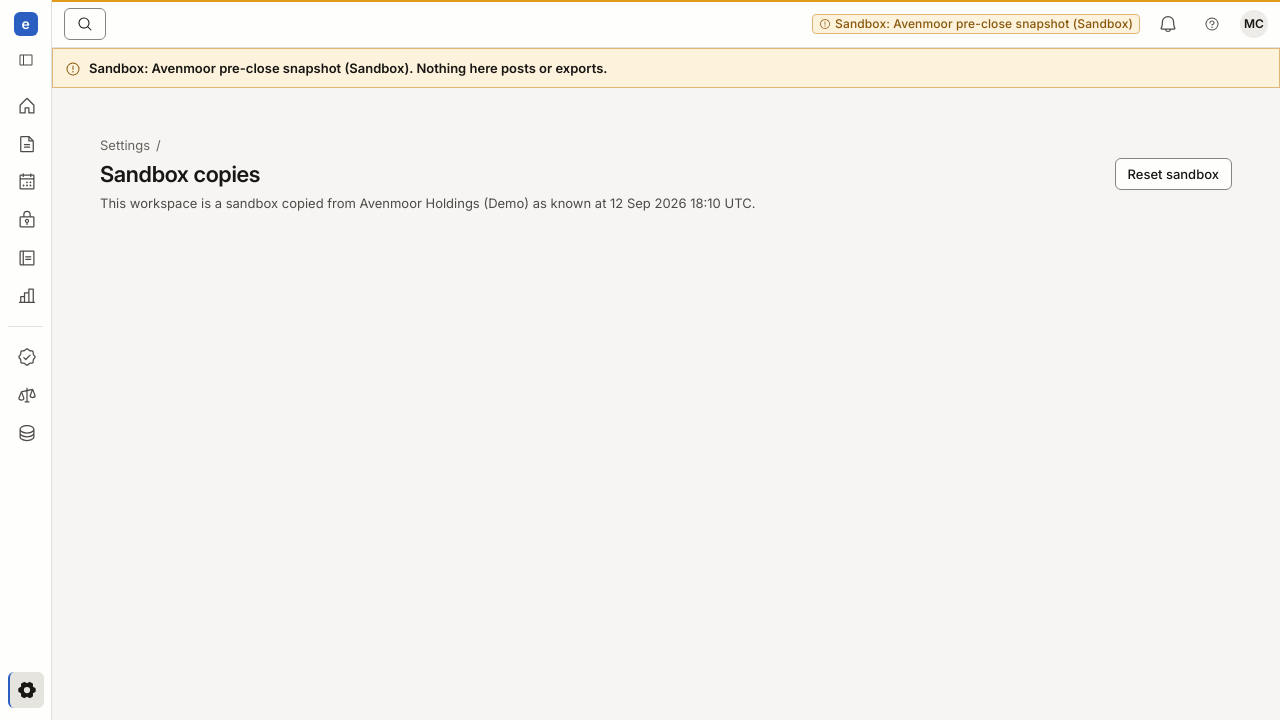
SF-15:sandbox › reset modal options
Expected: the text "This workspace is a sandbox copied from Avenmoor Holdings (Demo) as known at 12 Sep 2026 18:10 UTC." is shown, [100, 195, 755, 211]
Click the button "Reset sandbox" at (1173,174), box [1114, 158, 1232, 190]
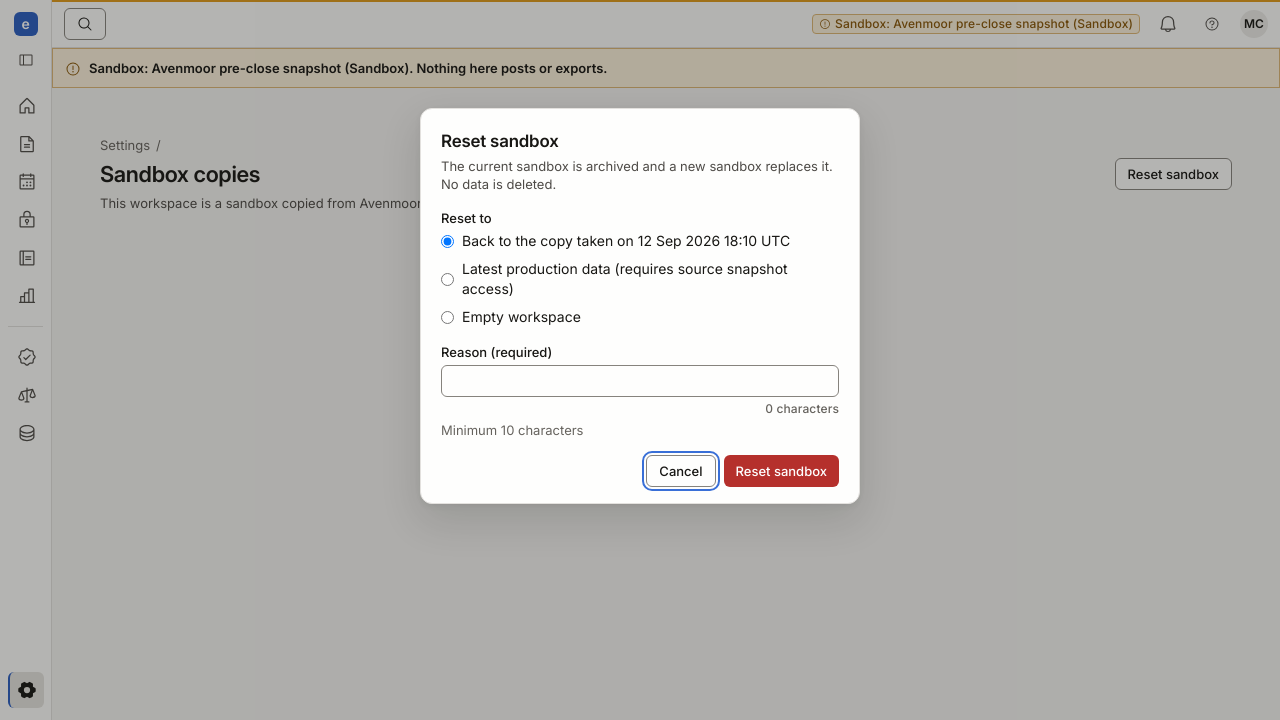
Result: the text "The current sandbox is archived and a new sandbox replaces it. No data is deleted." is shown at [441, 158, 833, 192]
Result: the radio button labelled "Back to the copy taken on 12 Sep 2026 18:10 UTC" is checked at [441, 234, 454, 248]
Result: the radio button labelled "Empty workspace" is not checked at [441, 310, 454, 324]
Note: SB-R-05: a reason of at least 10 characters.
Type "too short" into the text box labelled "Reason (required)" at (640,381), box [441, 365, 839, 397]
Click the button "Reset sandbox" at (781,471), box [724, 455, 839, 487]
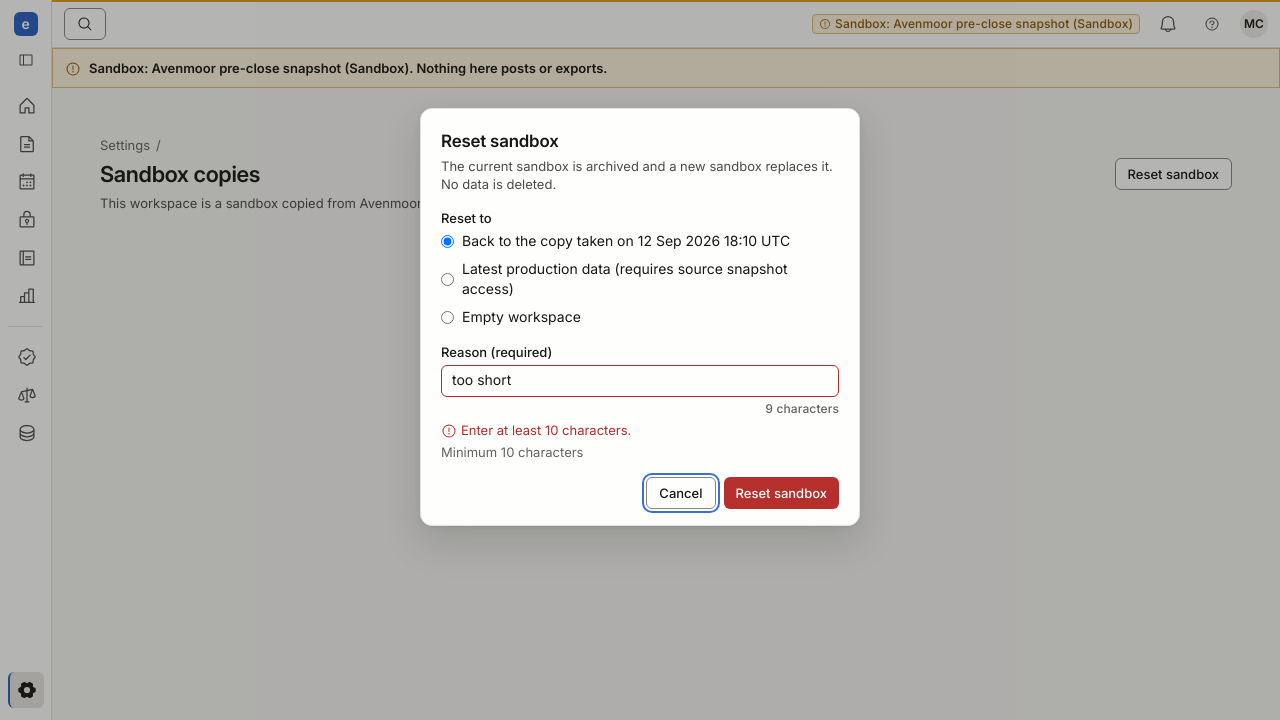
Result: the text "Enter at least 10 characters." is shown at [441, 422, 631, 439]
Click the radio button labelled "Empty workspace" at (448,317), box [441, 310, 454, 324]
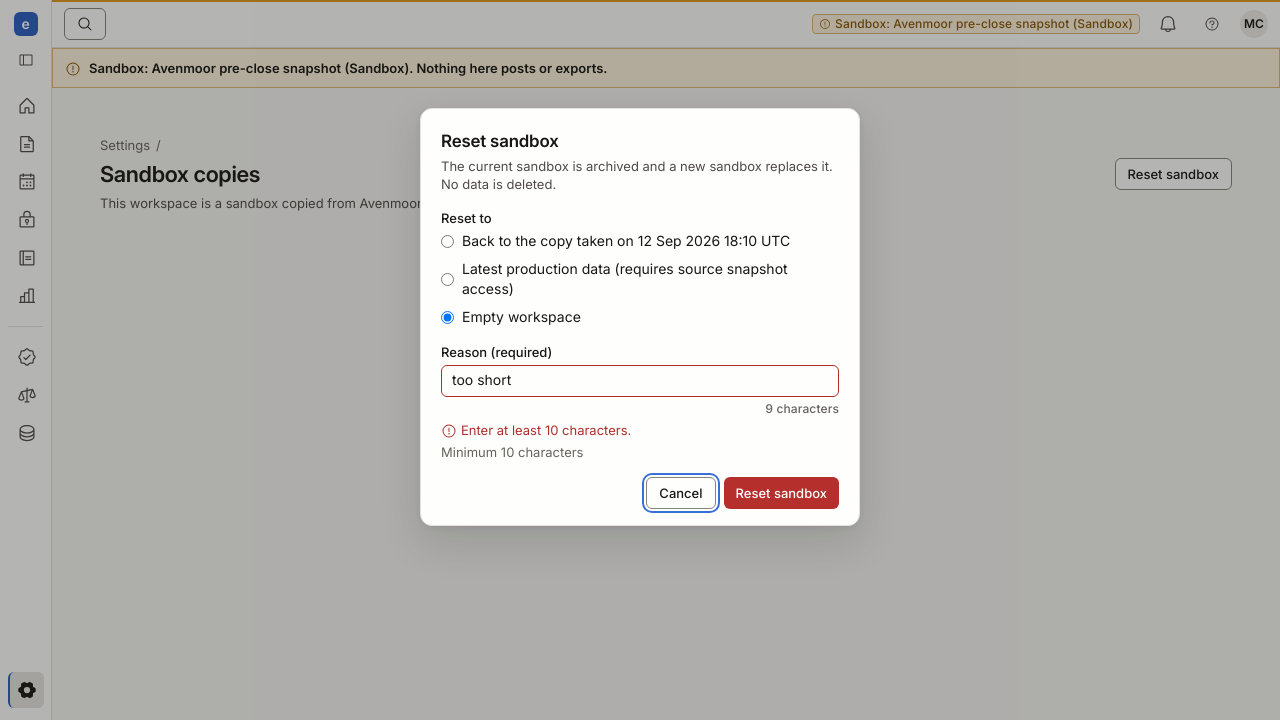
Click the radio button labelled "Back to the copy taken on 12 Sep 2026 18:10 UTC" at (448,241), box [441, 234, 454, 248]
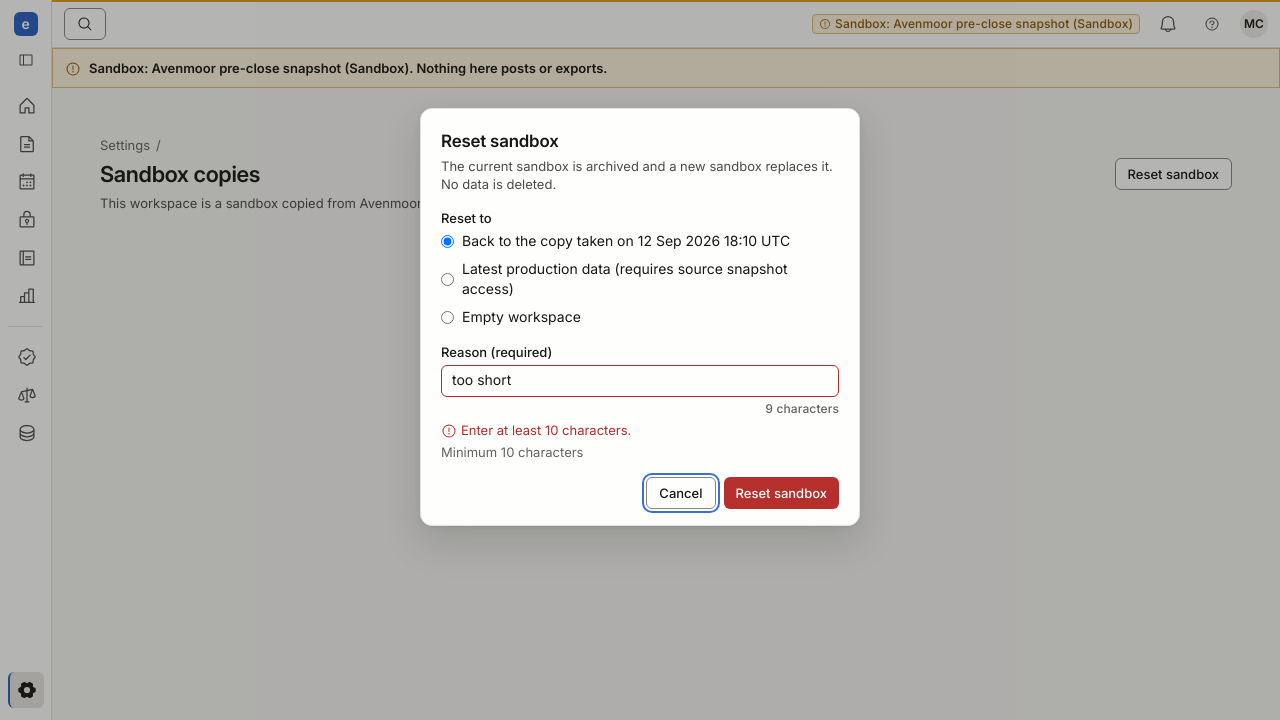
Replace the text in the text box labelled "Reason (required)" with "Rehearsal complete" at (640,381), box [441, 365, 839, 397]
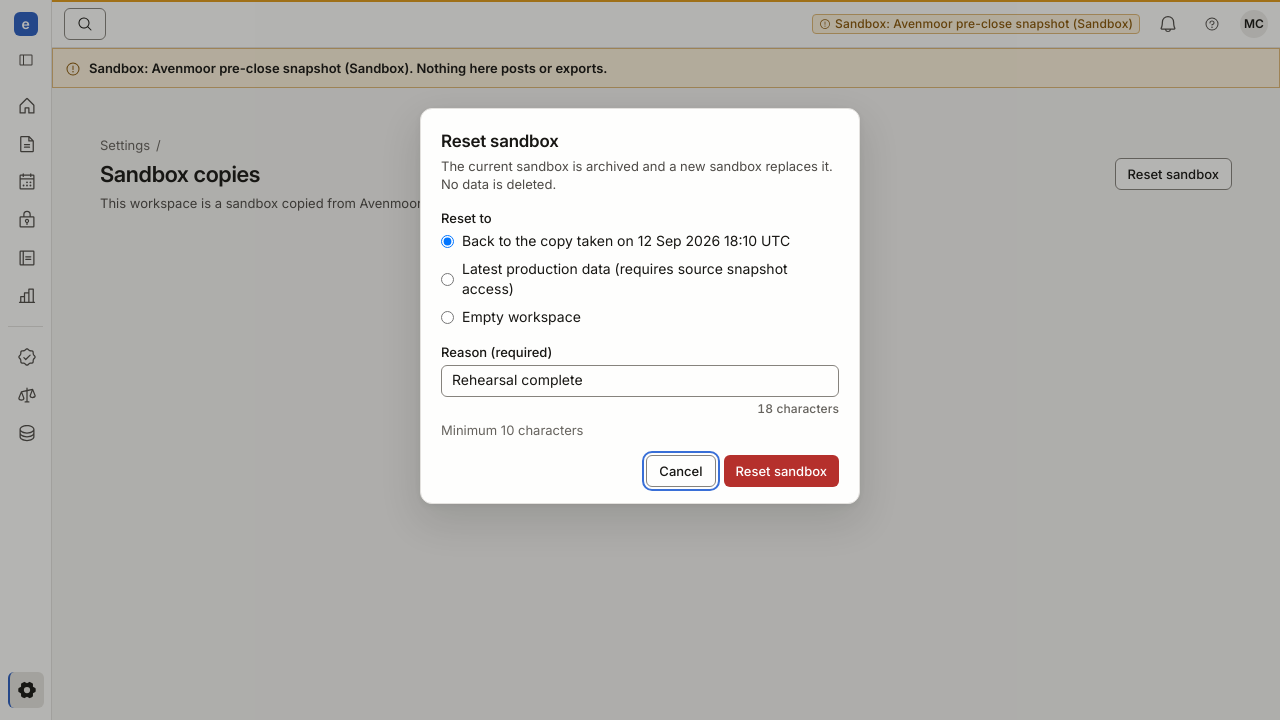
Click the button "Reset sandbox" at (781,471), box [724, 455, 839, 487]
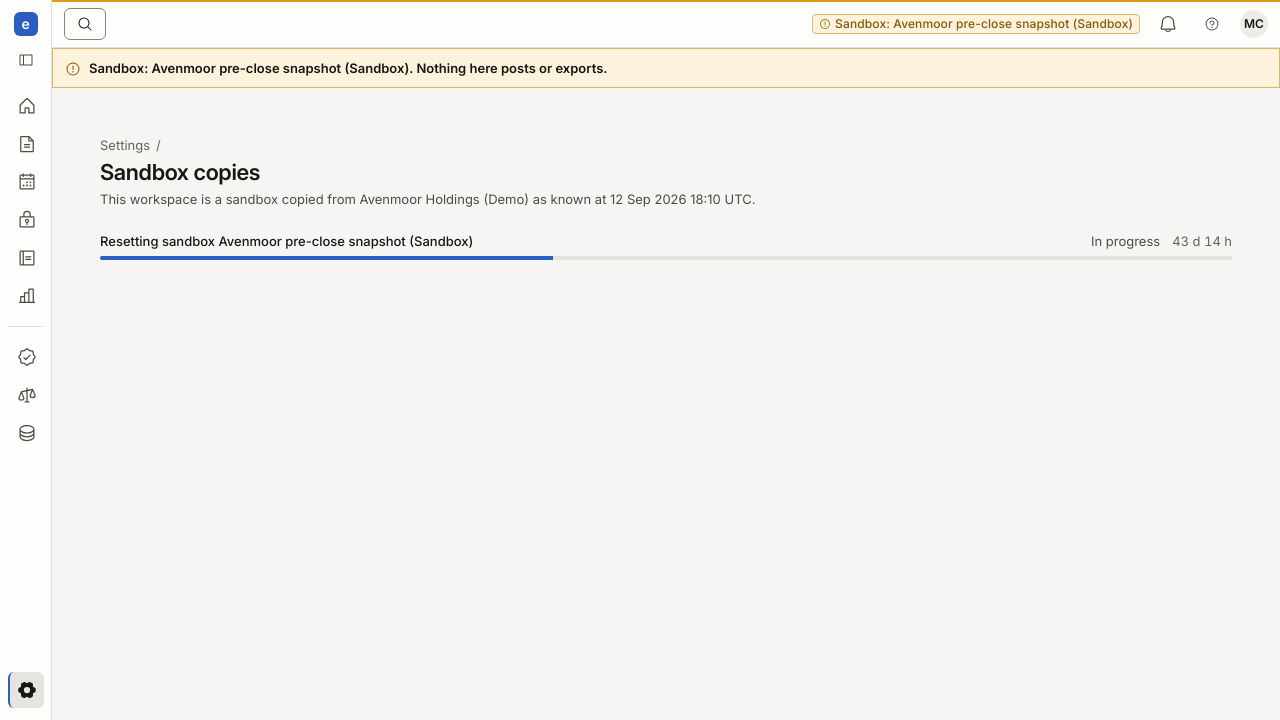
Result: the progress indicator named "Resetting sandbox Avenmoor pre-close snapshot (Sandbox)" is shown at [100, 256, 1232, 260]
Result: the button "Reset sandbox" is gone
